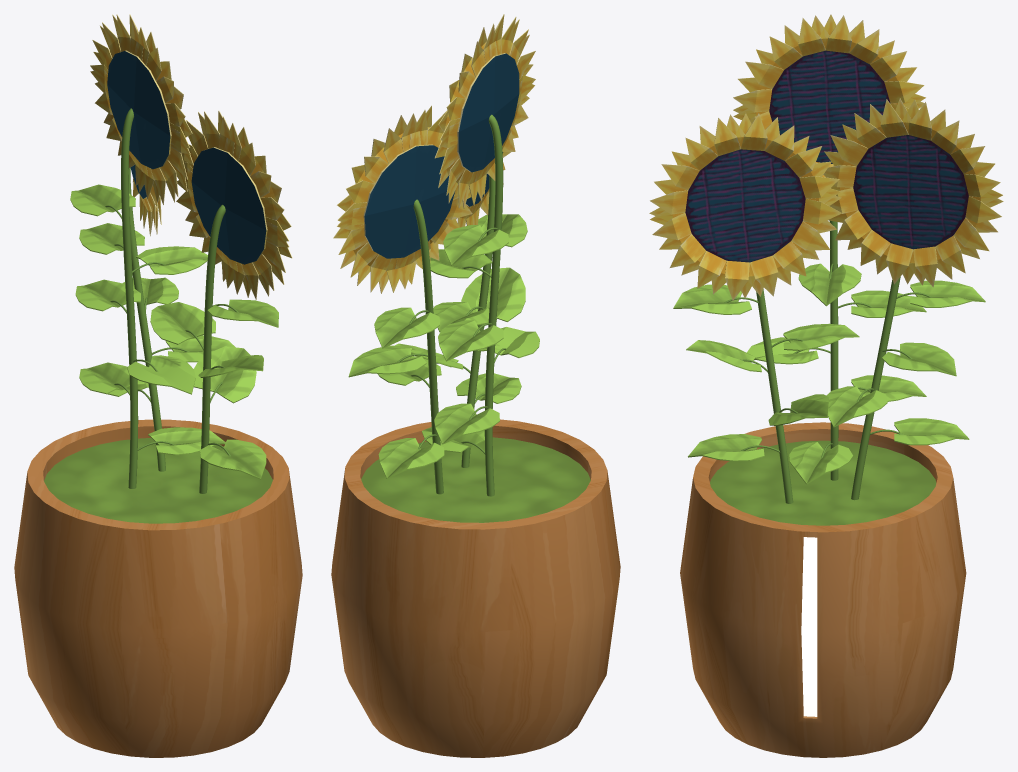
The model's file is Sunflower.fbx.
3 views of the same model, side by side, from view 1: azimuth 30°, elevation 25°; view 2: azimuth 150°, elevation 25°; view 3: azimuth 270°, elevation 25° (orthographic).
Parts seen in each view (by area): view 1: Горшок, Circle.006, Circle.001, NurbsPath.001, NurbsPath, Plane.011, Plane.013, NurbsPath.002, Plane.014, Plane.007, Plane.005, Plane.009 (+9 smaller); view 2: Горшок, Circle.002, Circle.001, NurbsPath.001, NurbsPath.002, Plane.012, Plane.003, Plane.006, Plane, Plane.004, Plane.008, Plane.001 (+9 smaller); view 3: Горшок, Circle.006, Circle.002, Circle.001, NurbsPath.002, Plane.009, NurbsPath, Plane.005, Plane.001, Plane.002, Plane.003, Plane.014 (+9 smaller).
Part boxes in pixels (bbox=[...]): Горшок: bbox=[14, 419, 302, 757]; Circle.006: bbox=[176, 110, 292, 299]; Circle.001: bbox=[90, 14, 193, 204]; NurbsPath.001: bbox=[121, 108, 138, 488]; NurbsPath: bbox=[199, 204, 225, 493]; Plane.011: bbox=[150, 302, 215, 344]; Plane.013: bbox=[193, 346, 256, 403]; NurbsPath.002: bbox=[128, 167, 165, 471]; Plane.014: bbox=[200, 439, 266, 479]; Plane.007: bbox=[127, 355, 195, 394]; Plane.005: bbox=[136, 246, 207, 274]; Plane.009: bbox=[148, 427, 225, 455]; Горшок: bbox=[331, 419, 620, 757]; Circle.002: bbox=[333, 105, 472, 293]; Circle.001: bbox=[435, 14, 535, 208]; NurbsPath.001: bbox=[484, 114, 503, 496]; NurbsPath.002: bbox=[413, 199, 443, 494]; Plane.012: bbox=[461, 267, 525, 321]; Plane.003: bbox=[378, 438, 444, 478]; Plane.006: bbox=[438, 320, 503, 361]; Plane: bbox=[374, 307, 439, 348]; Plane.004: bbox=[443, 225, 508, 265]; Plane.008: bbox=[434, 403, 499, 444]; Plane.001: bbox=[348, 345, 426, 377]; Горшок: bbox=[680, 422, 966, 757]; Circle.006: bbox=[649, 113, 841, 300]; Circle.002: bbox=[823, 98, 1003, 287]; Circle.001: bbox=[733, 14, 925, 177]; NurbsPath.002: bbox=[851, 277, 900, 500]; Plane.009: bbox=[789, 442, 853, 484]; NurbsPath: bbox=[756, 289, 793, 503]; Plane.005: bbox=[798, 263, 861, 306]; Plane.001: bbox=[882, 342, 956, 376]; Plane.002: bbox=[826, 386, 887, 427]; Plane.003: bbox=[894, 418, 969, 445]; Plane.014: bbox=[688, 434, 764, 461].
Size of the model in its own units: 0.8478 by 2.25 by 1.05.
